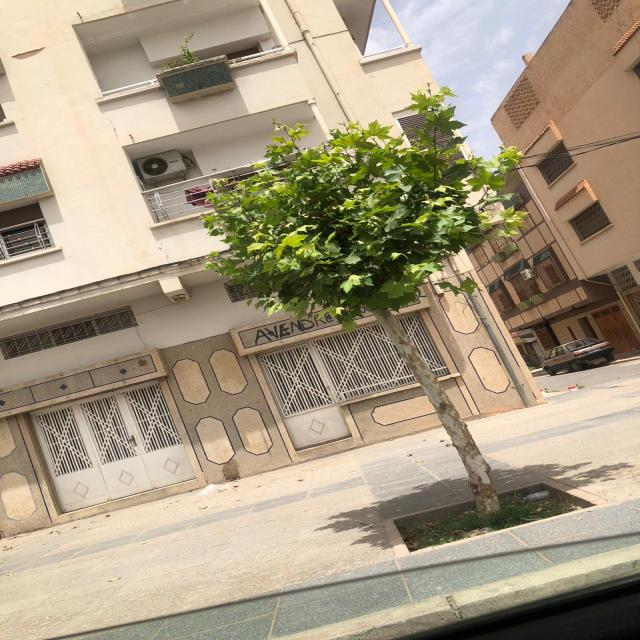Tree: (203, 87, 523, 517)
